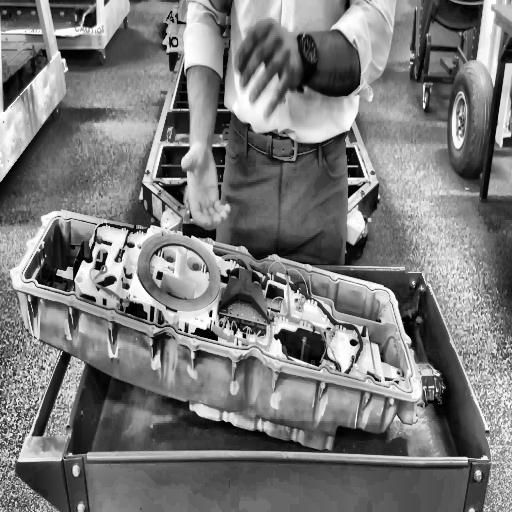bms_unit: (11, 209, 424, 400)
